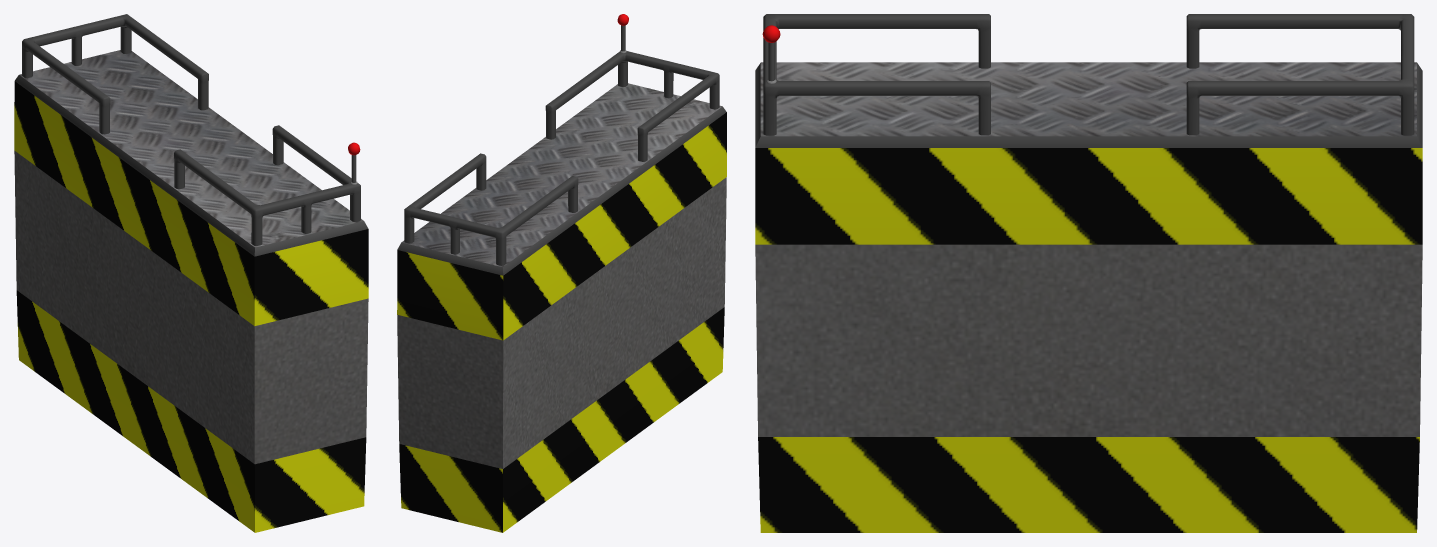
File: StageParts_MoveWall_model.fbx
3 renders of one model, left to right at view 1: azimuth 30°, elevation 25°; view 2: azimuth 150°, elevation 25°; view 3: azimuth 270°, elevation 25°, orthographic. The views are drawn at different scales.
Visible parts, largest first — view 1: Move_Wall; view 2: Move_Wall; view 3: Move_Wall.
Boxes of the visible parts, x1,y1,x2,y2 form: Move_Wall: (14,14,368,532); Move_Wall: (397,14,726,532); Move_Wall: (755,14,1422,532).
Bounding box in the file's own units: 125 × 380 × 458.
